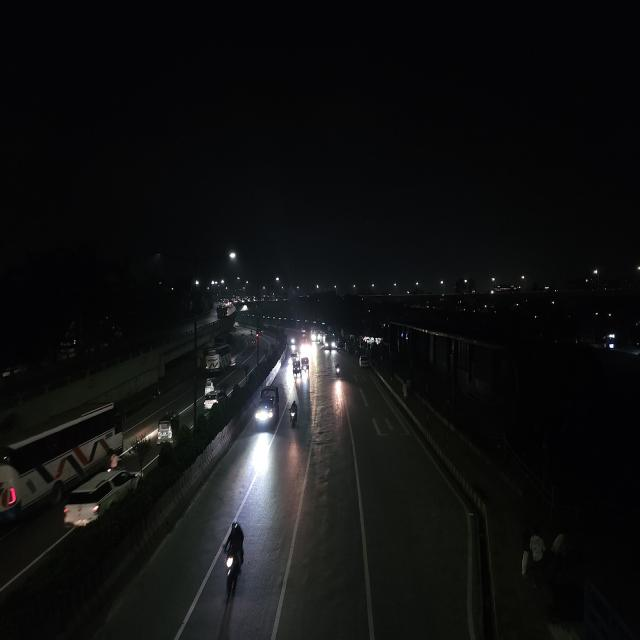bus: (0, 401, 124, 527), (254, 383, 282, 435), (203, 342, 234, 374), (324, 332, 336, 351), (310, 328, 320, 343)
car: (59, 464, 142, 531), (254, 384, 281, 435), (202, 385, 226, 414), (357, 352, 370, 370)
cng: (153, 410, 183, 448), (290, 355, 304, 380), (301, 355, 311, 373)
motorcycle: (220, 518, 252, 599), (288, 398, 300, 429), (333, 360, 342, 379)
